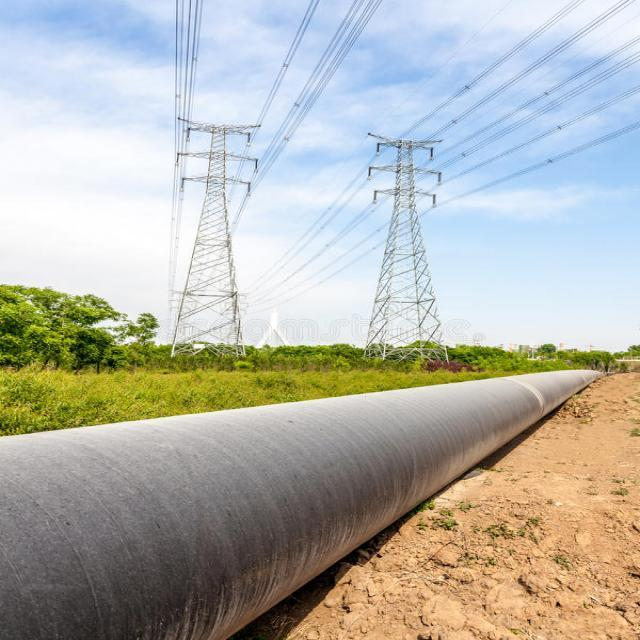gas: (0, 371, 599, 640)
